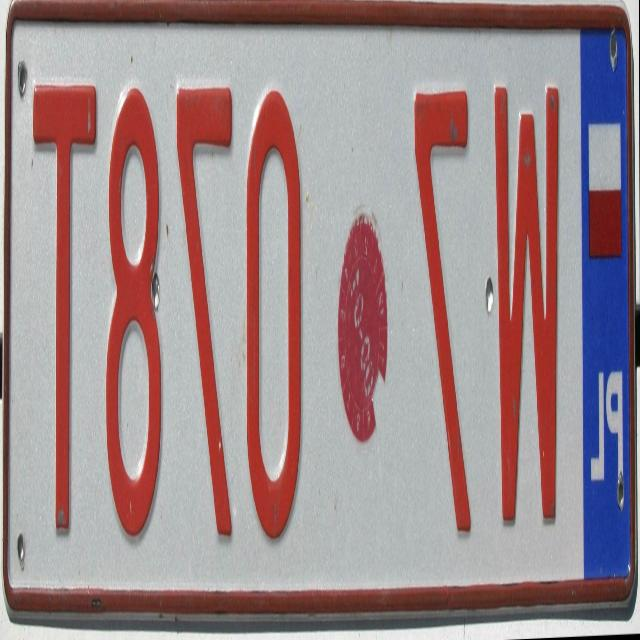pl_license_plate: (7, 19, 633, 604)
